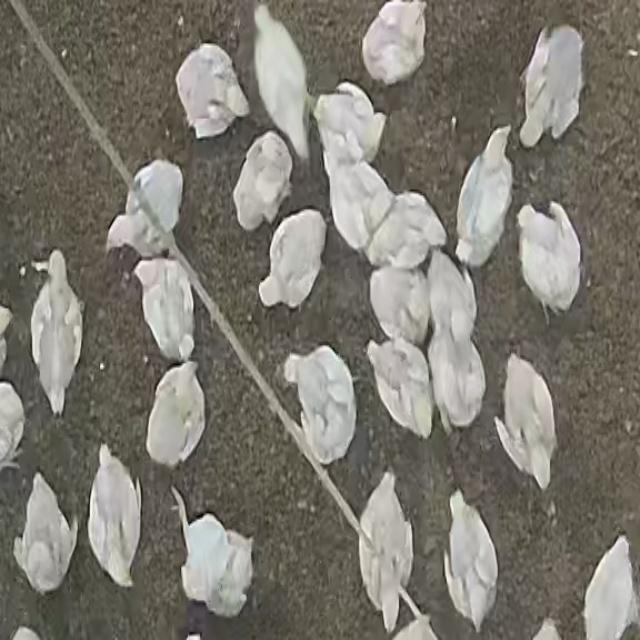chicken: (171, 488, 255, 622), (250, 4, 317, 165), (359, 466, 419, 630), (451, 124, 516, 267), (282, 345, 358, 467), (29, 250, 85, 414), (520, 21, 589, 147), (106, 158, 182, 266), (497, 354, 557, 490), (444, 489, 498, 632), (13, 472, 76, 594), (518, 201, 582, 320), (88, 448, 141, 588), (368, 336, 436, 443), (257, 209, 327, 310), (176, 42, 248, 140), (135, 253, 196, 364), (144, 362, 205, 473), (364, 192, 446, 273), (314, 82, 386, 171), (320, 154, 387, 247), (233, 132, 294, 231), (363, 0, 431, 88), (366, 258, 431, 349), (583, 537, 639, 639), (429, 336, 486, 429), (428, 254, 479, 346)
